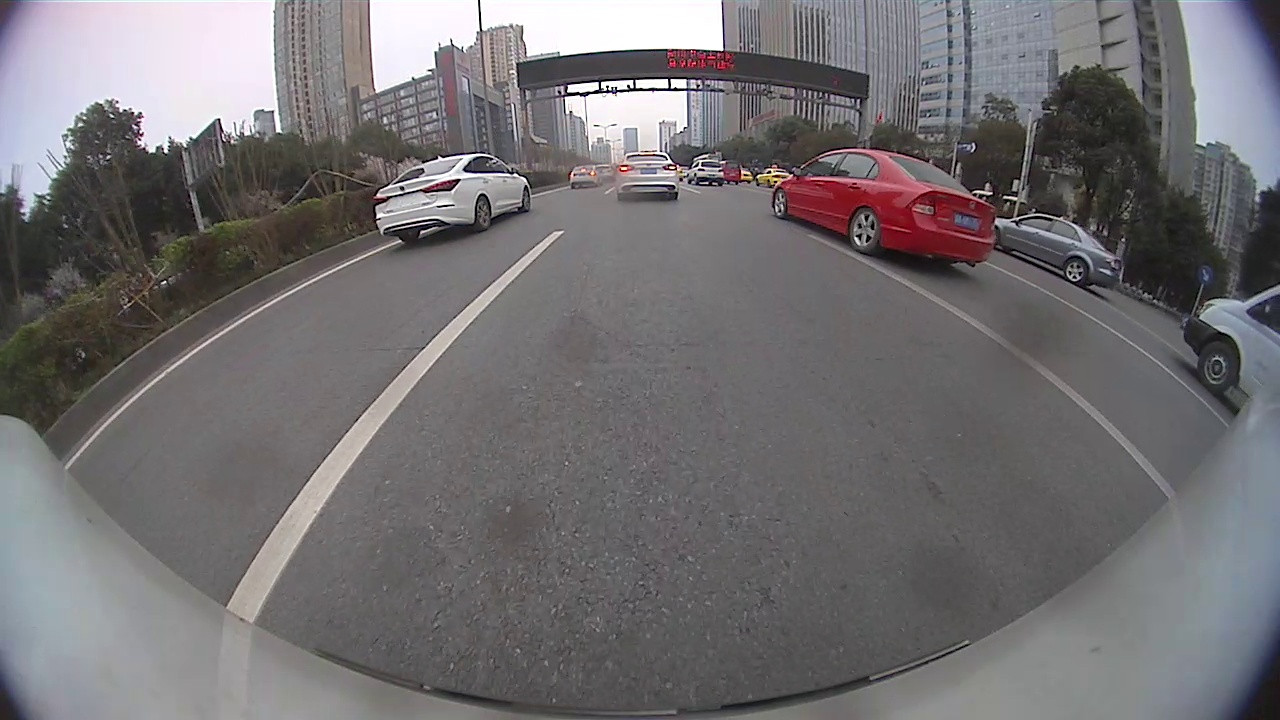car: (769, 147, 997, 269), (370, 153, 533, 246), (1181, 283, 1278, 395), (998, 215, 1124, 294), (615, 150, 679, 203), (684, 158, 724, 185), (569, 162, 602, 188)
front: (1196, 341, 1239, 393), (772, 189, 788, 220), (520, 184, 533, 212)
rear: (848, 208, 880, 255), (1062, 256, 1089, 287), (475, 195, 492, 231)
